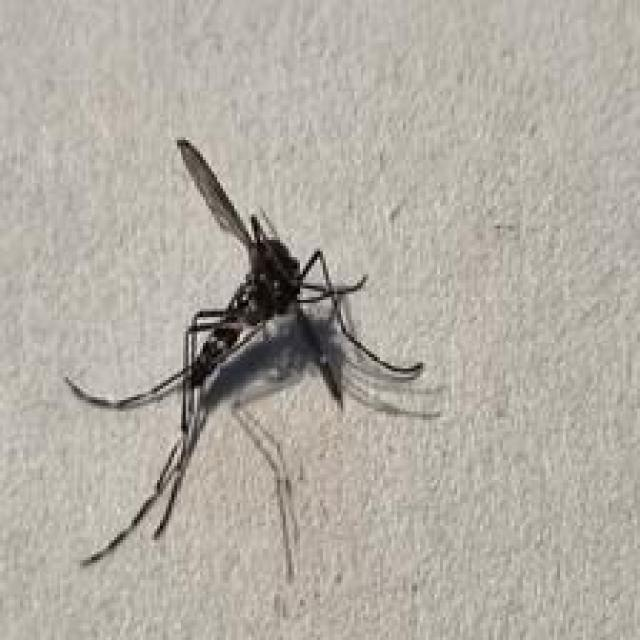Aedes albopictus: (64, 134, 447, 583)
